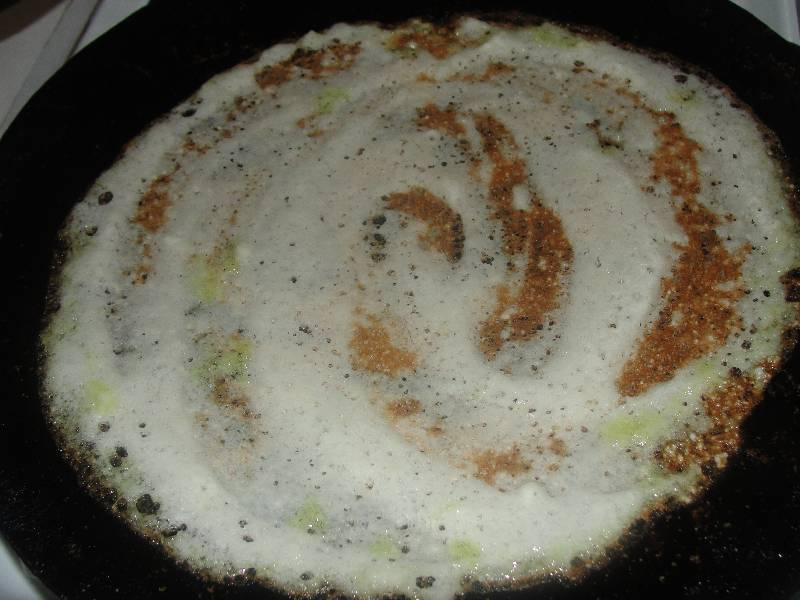dosa: (50, 24, 799, 594)
